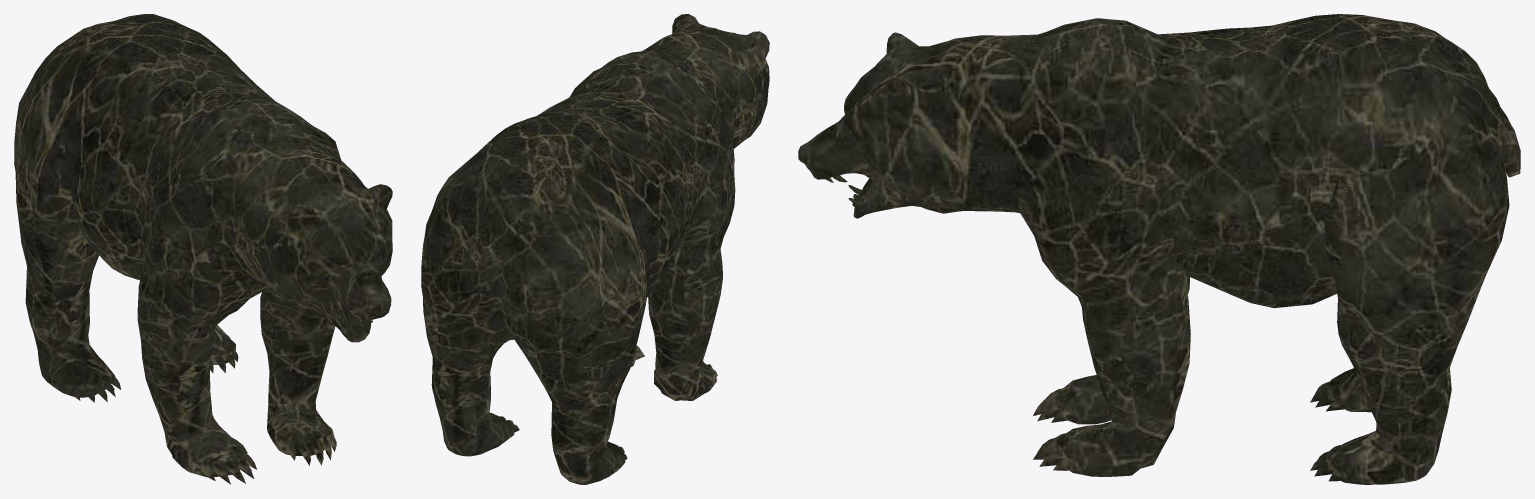
File: sculpture-bear.glb
The picture shows the model from 3 angles, left to right: view 1: azimuth 30°, elevation 25°; view 2: azimuth 150°, elevation 25°; view 3: azimuth 270°, elevation 25°; orthographic projection. The views are drawn at different scales.
Parts seen in each view (by area): view 1: sculpture_bear; view 2: sculpture_bear; view 3: sculpture_bear.
Boxes of the visible parts, x1,y1,x2,y2 form: sculpture_bear: (14, 14, 392, 484); sculpture_bear: (421, 14, 769, 484); sculpture_bear: (798, 14, 1520, 484).
Bounding box in the file's own units: 1.15 × 1.7 × 2.65.
1 material, 1 textured.
